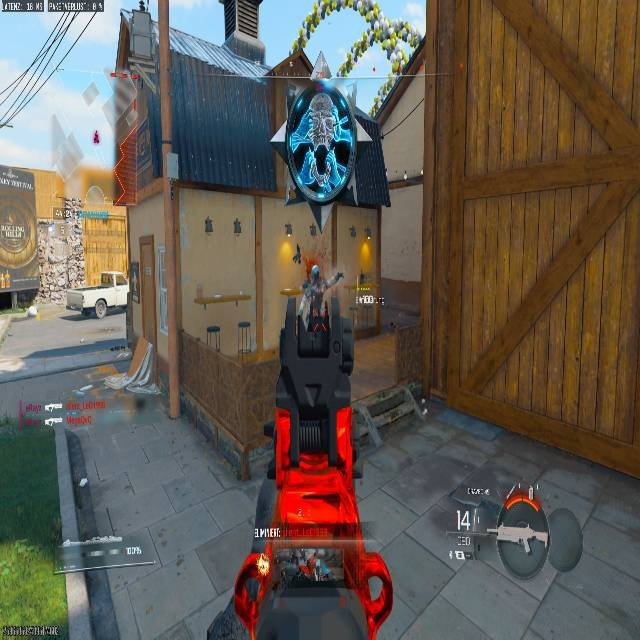head: (310, 265, 320, 280)
player: (300, 266, 329, 332)
